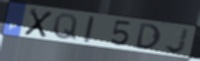5: (110, 19, 133, 47)
D: (134, 22, 162, 51)
I: (82, 15, 96, 44)
J: (164, 27, 191, 54)
Q: (51, 12, 79, 42)
X: (23, 7, 54, 39)
